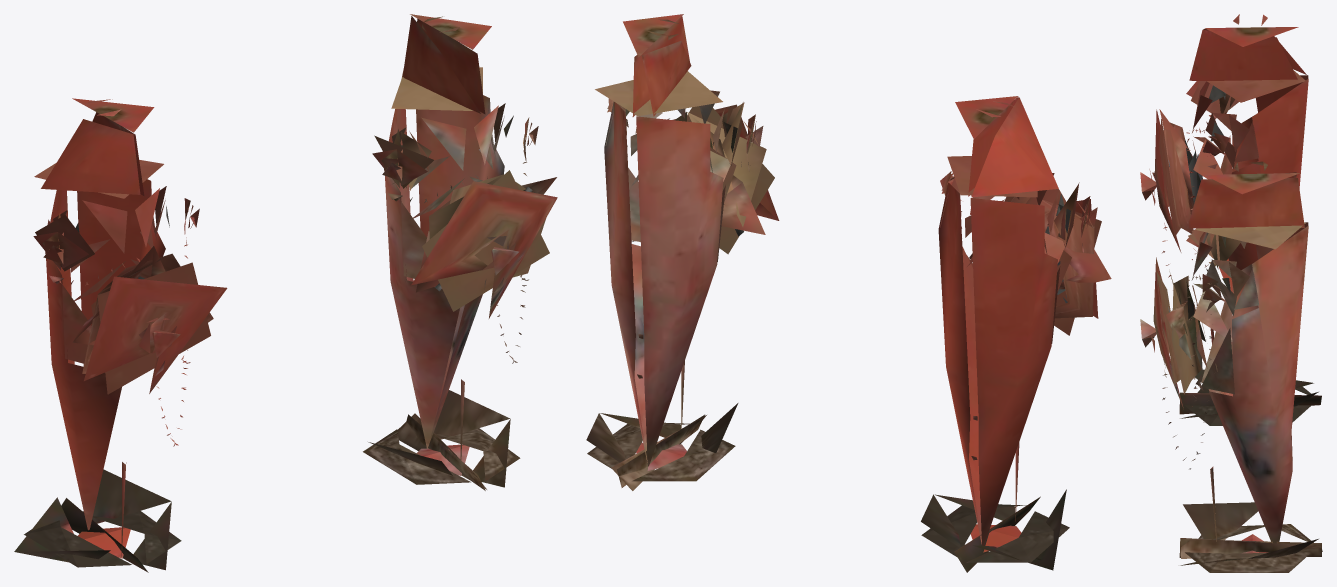
The model's file is hydrant.glb.
The picture shows the model from 3 angles, left to right: view 1: azimuth 30°, elevation 25°; view 2: azimuth 150°, elevation 25°; view 3: azimuth 270°, elevation 25°; orthographic projection. The views are drawn at different scales.
Parts seen in each view (by area): view 1: fire_hydrant; view 2: fire_hydrant; view 3: fire_hydrant.
Part boxes in pixels (bbox=[...]): fire_hydrant: bbox=[14, 14, 557, 572]; fire_hydrant: bbox=[586, 14, 1111, 572]; fire_hydrant: bbox=[1140, 14, 1322, 572].
Size of the model in its own units: 0.8734 by 0.756 by 0.3151.
Materials: 2 (2 with a texture image).
